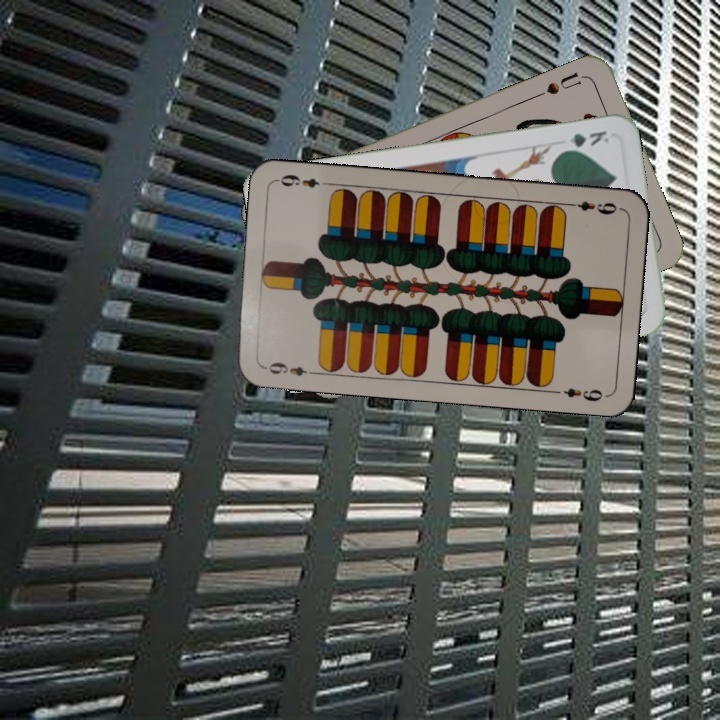E9: (259, 358, 318, 379), (564, 197, 623, 217)
GK: (556, 126, 612, 155)
SU: (532, 68, 589, 100)
